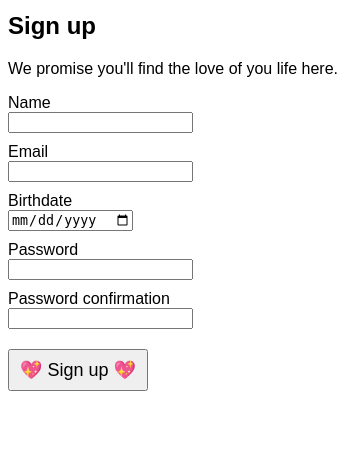
SignupView › when the form is invalid › should show an error if the email is empty
Type "Chuck" into the field with test id "name" at (100, 122), box [8,112,193,133]
Type "chuck@norris.com" into the field with test id "email" at (100, 171), box [8,161,193,182]
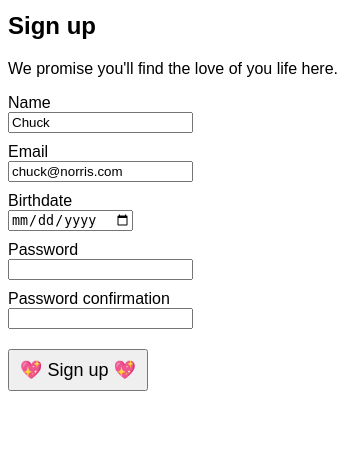
Type "1981-11-12" into the date field with test id "birthday" at (71, 220), box [8,210,133,231]
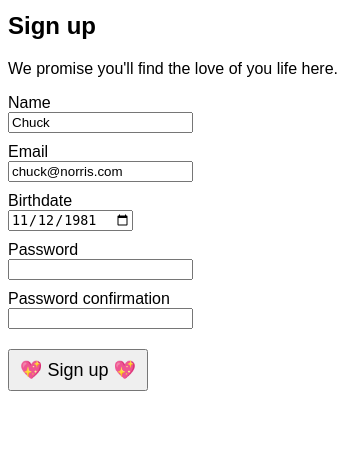
Type "12341234" into the password field with test id "password" at (100, 270), box [8,259,193,280]
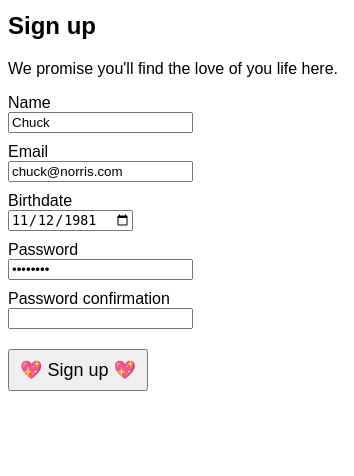
Type "12341234" into the password field with test id "passwordConfirmation" at (100, 319), box [8,308,193,329]
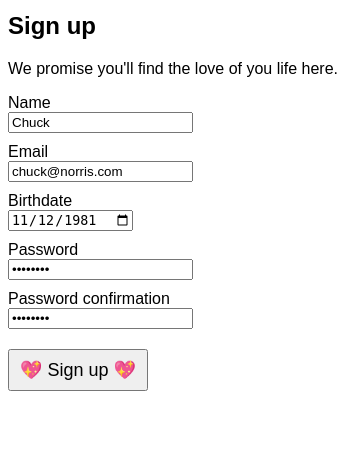
Clear the field with test id "email" at (100, 171), box [8,161,193,182]
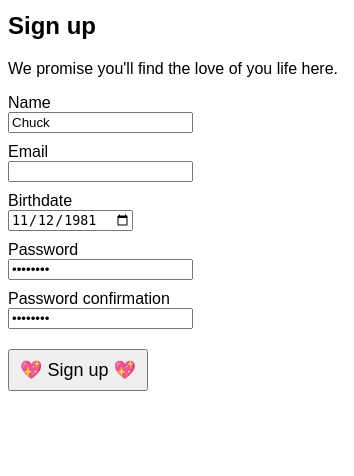
Submit the form, box [8,94,193,391]
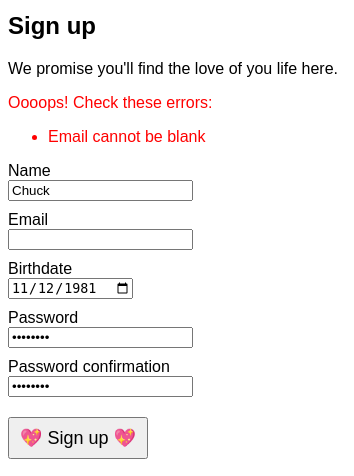
Check: the element with class "errors" reads "Oooops! Check these errors: Email cannot be blank", box [8,94,212,145]
